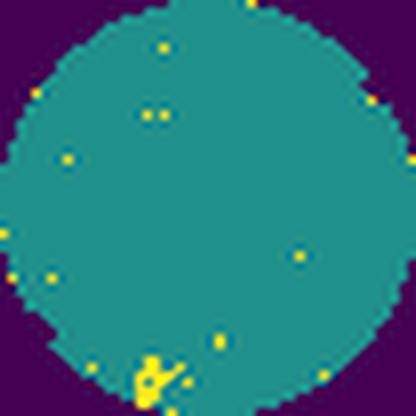Edge-Loc: (134, 350, 186, 412)
